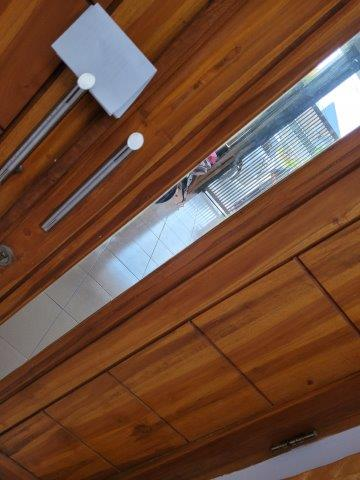kertas: (50, 3, 158, 118)
